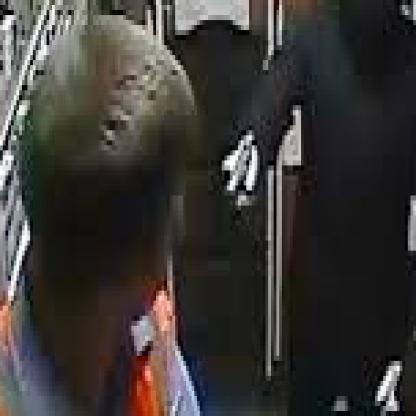gun: (221, 136, 266, 226)
